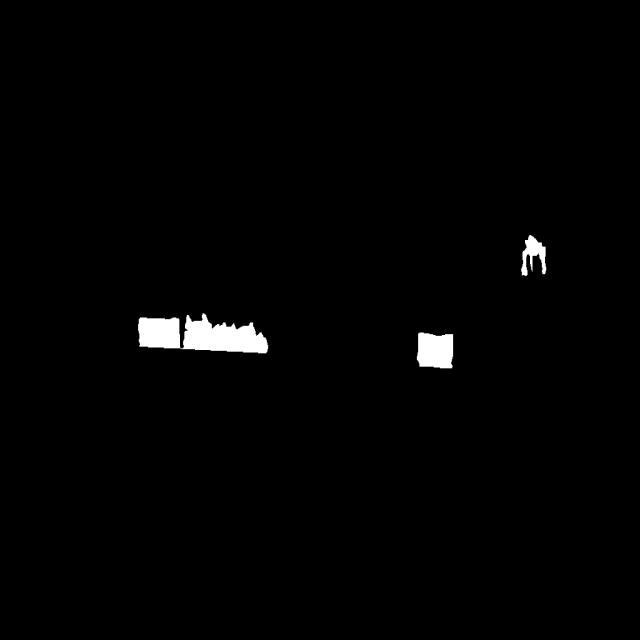fire: (74, 275, 557, 422), (441, 200, 577, 324)
